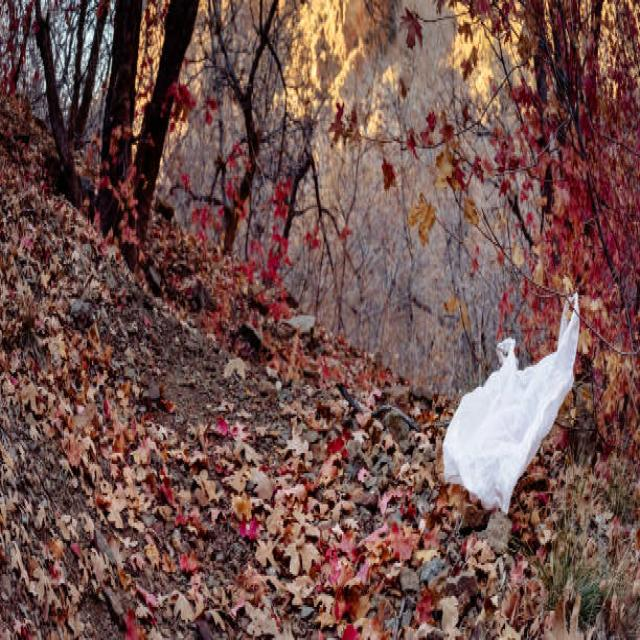trash: (434, 279, 585, 513)
